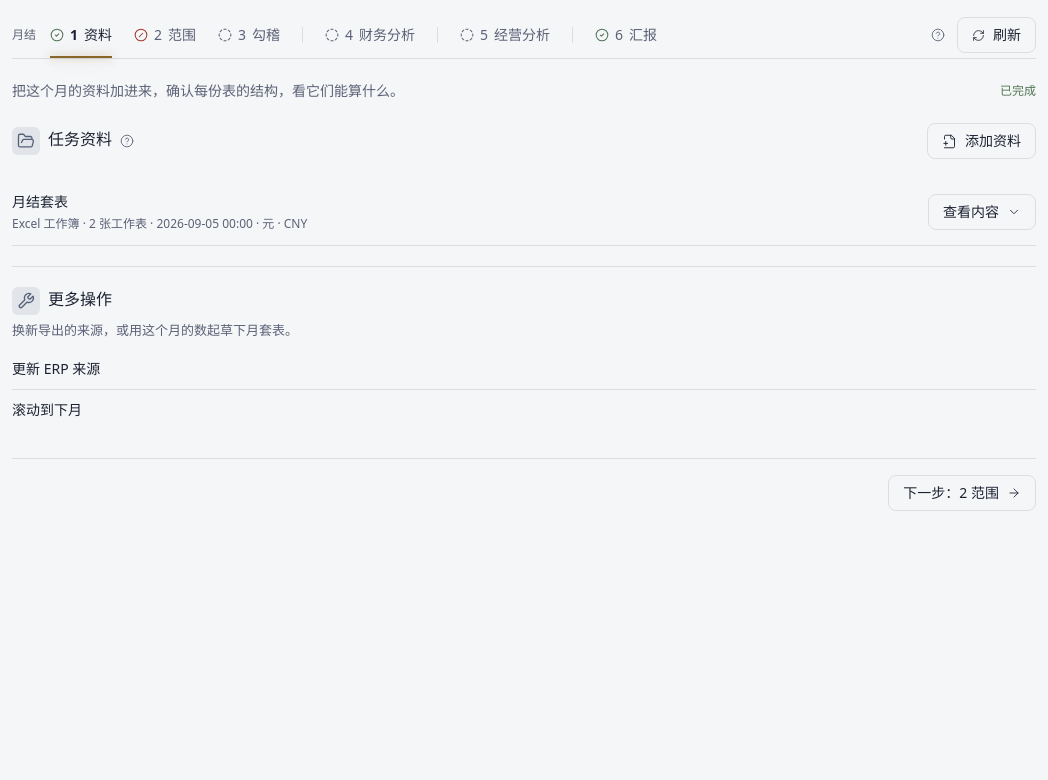
Test case: analysis workbench › shows a complete workbook as sheets instead of an empty flat table
This screenshot has width=1048, height=780.
Expected: the list item "月结套表" shows "Excel 工作簿 · 2 张工作表", [12,215,307,232]
Click the button with aria-label "查看内容：月结套表" at (982, 212), box [928,194,1036,230]
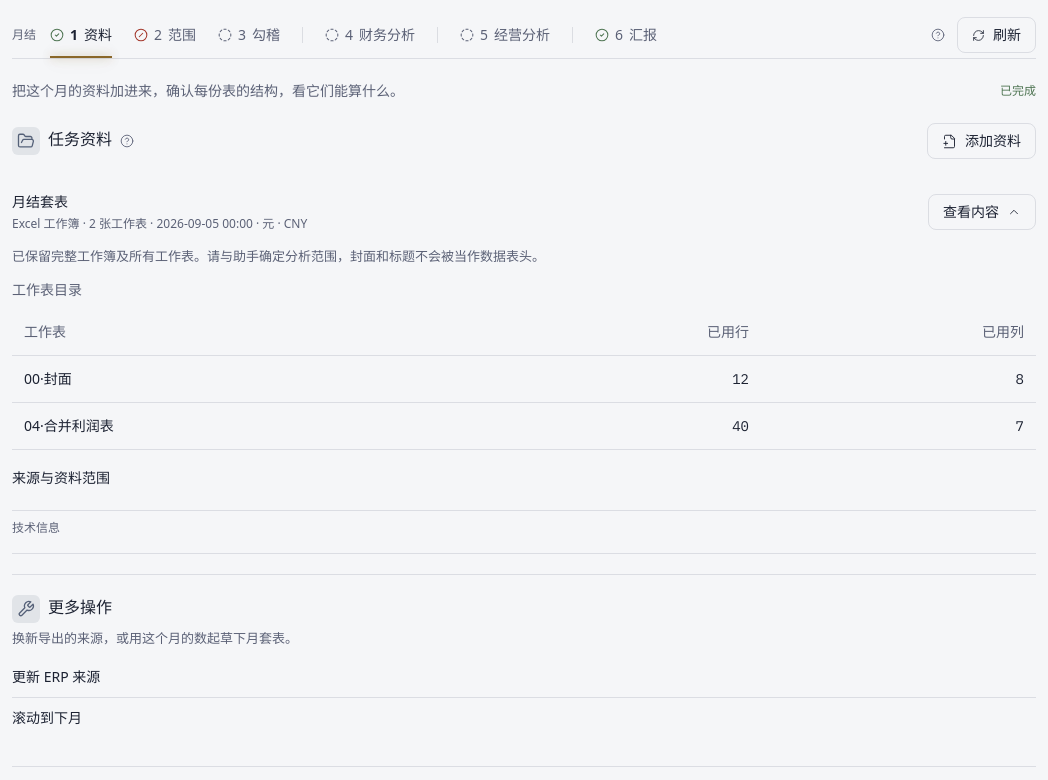
Now the text "00·封面" is shown, box [12,356,486,403]
Now the text "04·合并利润表" is shown, box [12,403,486,450]
